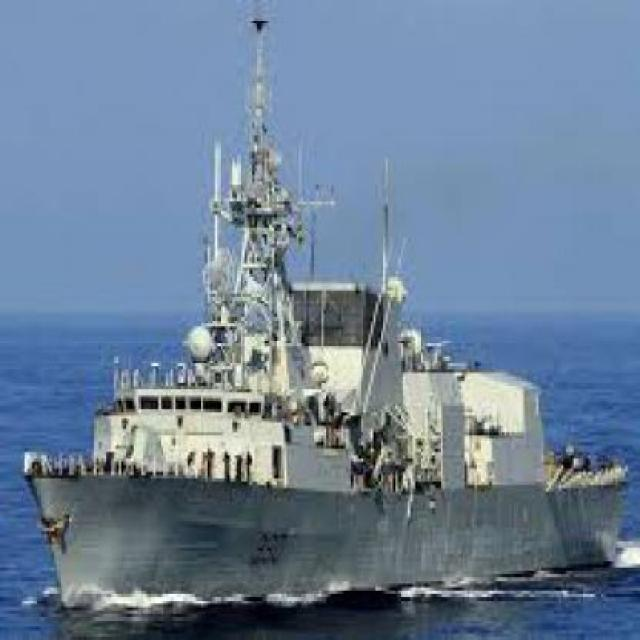warship2: (33, 23, 634, 625)
